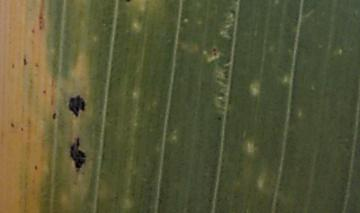tarspot: (71, 138, 87, 172), (69, 95, 86, 117), (22, 56, 28, 65), (212, 47, 217, 57), (30, 26, 36, 34), (52, 113, 58, 120), (33, 61, 39, 68), (10, 121, 15, 128), (11, 62, 16, 69), (33, 165, 39, 170), (20, 126, 25, 132), (217, 115, 222, 120), (42, 90, 47, 94)
